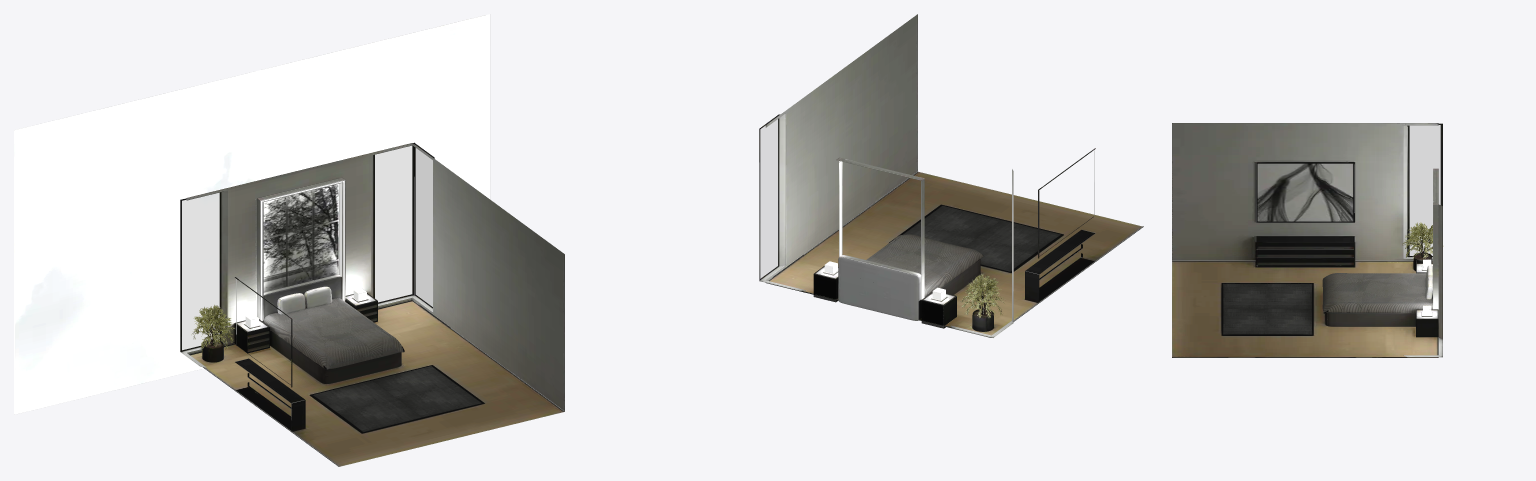
Rendered from sala_dorm.glb.
3 views of the same model, side by side, from view 1: azimuth 30°, elevation 25°; view 2: azimuth 150°, elevation 25°; view 3: azimuth 270°, elevation 25° (orthographic). The views are drawn at different scales.
Parts seen in each view (by area): view 1: Bedroom; view 2: Bedroom; view 3: Bedroom.
Part boxes in pixels (left/top/right/bottom): Bedroom: left=14, top=14, right=564, bottom=466; Bedroom: left=759, top=14, right=1143, bottom=338; Bedroom: left=1172, top=123, right=1443, bottom=357.
Bounding box in the file's own units: 10.83 × 6.19 × 7.87.
Materials: 4 (3 with a texture image).
